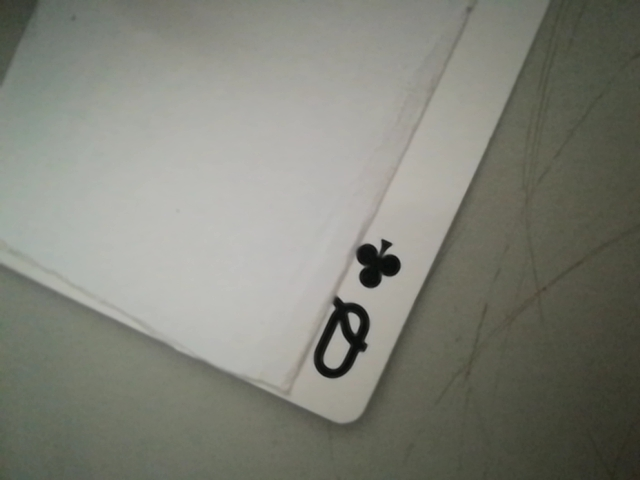mh q: (301, 230, 412, 399)
